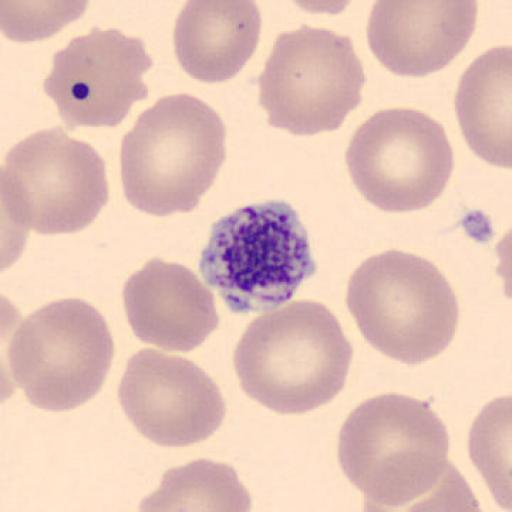Platelet: (196, 197, 322, 315), (68, 79, 94, 104)
RBC: (232, 297, 354, 417), (344, 247, 461, 367), (118, 91, 228, 218), (336, 390, 452, 507), (7, 295, 115, 414), (257, 24, 366, 138), (344, 104, 454, 214), (1, 125, 110, 236), (42, 25, 154, 130), (116, 347, 227, 450), (120, 257, 220, 354), (365, 1, 480, 78), (171, 0, 264, 86), (362, 448, 486, 511), (452, 44, 512, 170), (133, 455, 253, 512), (372, 462, 485, 512), (468, 392, 512, 512), (1, 0, 92, 42), (1, 173, 32, 273), (391, 486, 492, 512), (0, 291, 24, 396), (492, 221, 512, 322), (2, 290, 24, 357), (493, 227, 512, 303), (284, 0, 360, 17), (0, 330, 16, 408)
